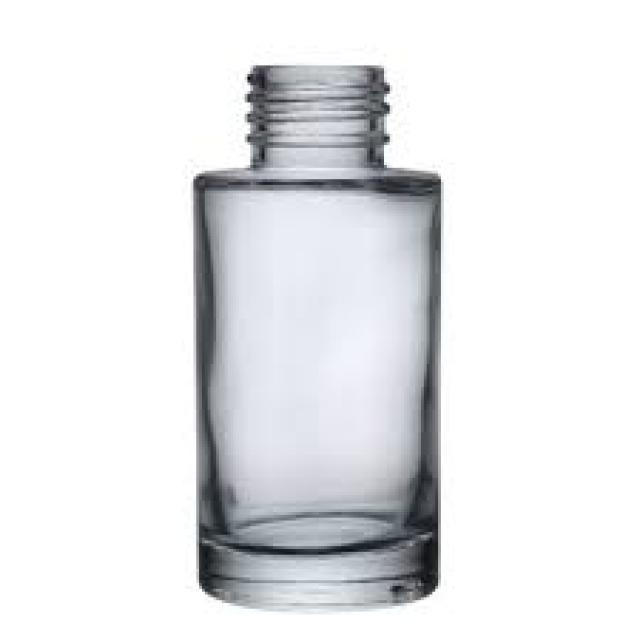glass: (194, 63, 436, 603)
